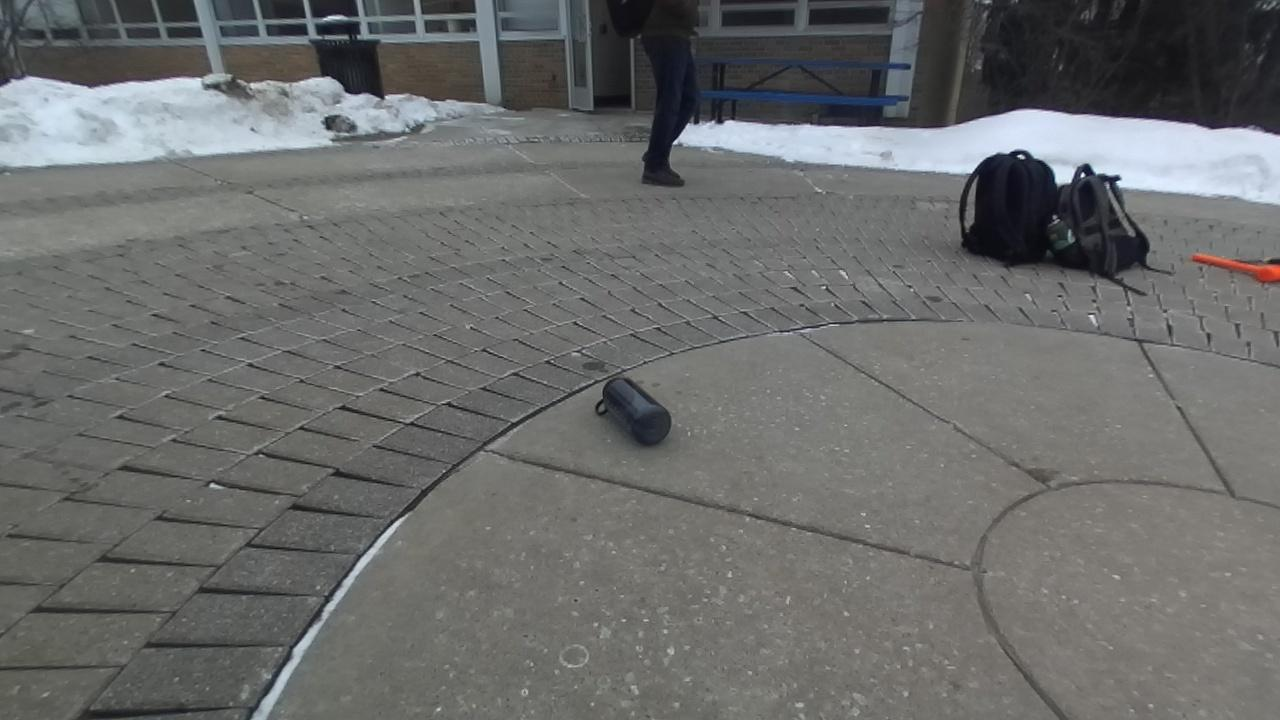bottle: (596, 377, 670, 444)
mallet: (1192, 255, 1279, 282)
